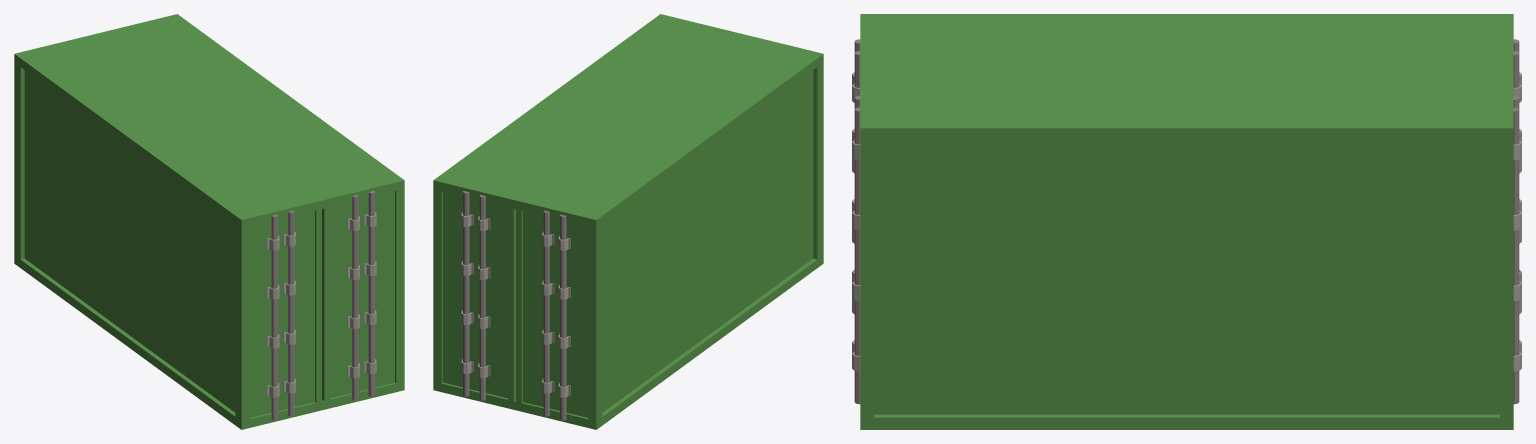
The model's file is container_01.fbx.
3 renders of one model, left to right at view 1: azimuth 30°, elevation 25°; view 2: azimuth 150°, elevation 25°; view 3: azimuth 270°, elevation 25°, orthographic. The views are drawn at different scales.
Parts seen in each view (by area): view 1: container01; view 2: container01; view 3: container01.
Part boxes in pixels (x1=…): container01: x1=14, y1=14, x2=404, y2=429; container01: x1=433, y1=14, x2=823, y2=429; container01: x1=852, y1=14, x2=1521, y2=429.
Size of the model in its own units: 138 by 342 by 170.
